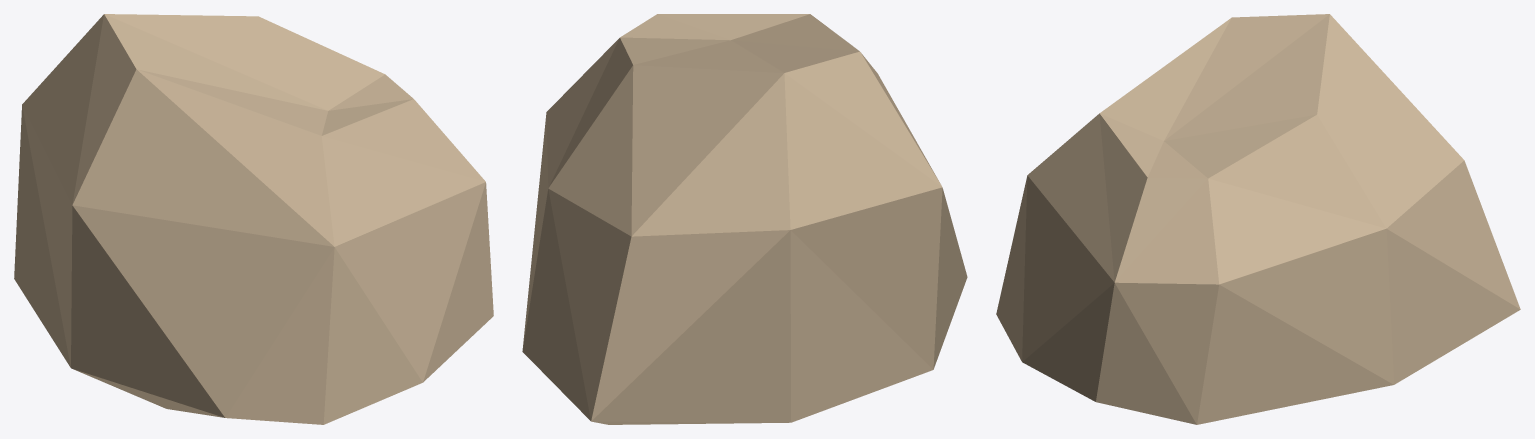
The model's file is SM_Env_Rock_014.fbx.
3 renders of one model, left to right at view 1: azimuth 30°, elevation 25°; view 2: azimuth 150°, elevation 25°; view 3: azimuth 270°, elevation 25°, orthographic. The views are drawn at different scales.
Parts seen in each view (by area): view 1: SM_Env_Rock_014; view 2: SM_Env_Rock_014; view 3: SM_Env_Rock_014.
Part boxes in pixels (bbox=[...]): SM_Env_Rock_014: bbox=[14, 14, 493, 424]; SM_Env_Rock_014: bbox=[522, 14, 967, 424]; SM_Env_Rock_014: bbox=[996, 14, 1520, 424].
Size of the model in its own units: 0.00458 by 0.00382 by 0.00571.
1 material, 1 textured.
